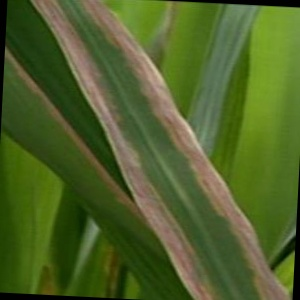Leaf_Blast: (141, 115, 282, 300)
